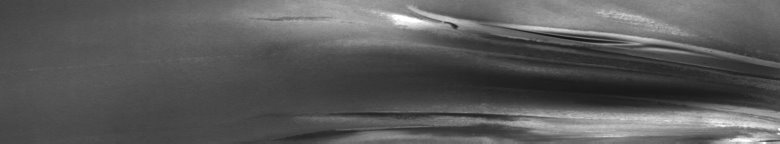ke: (250, 4, 776, 136)
